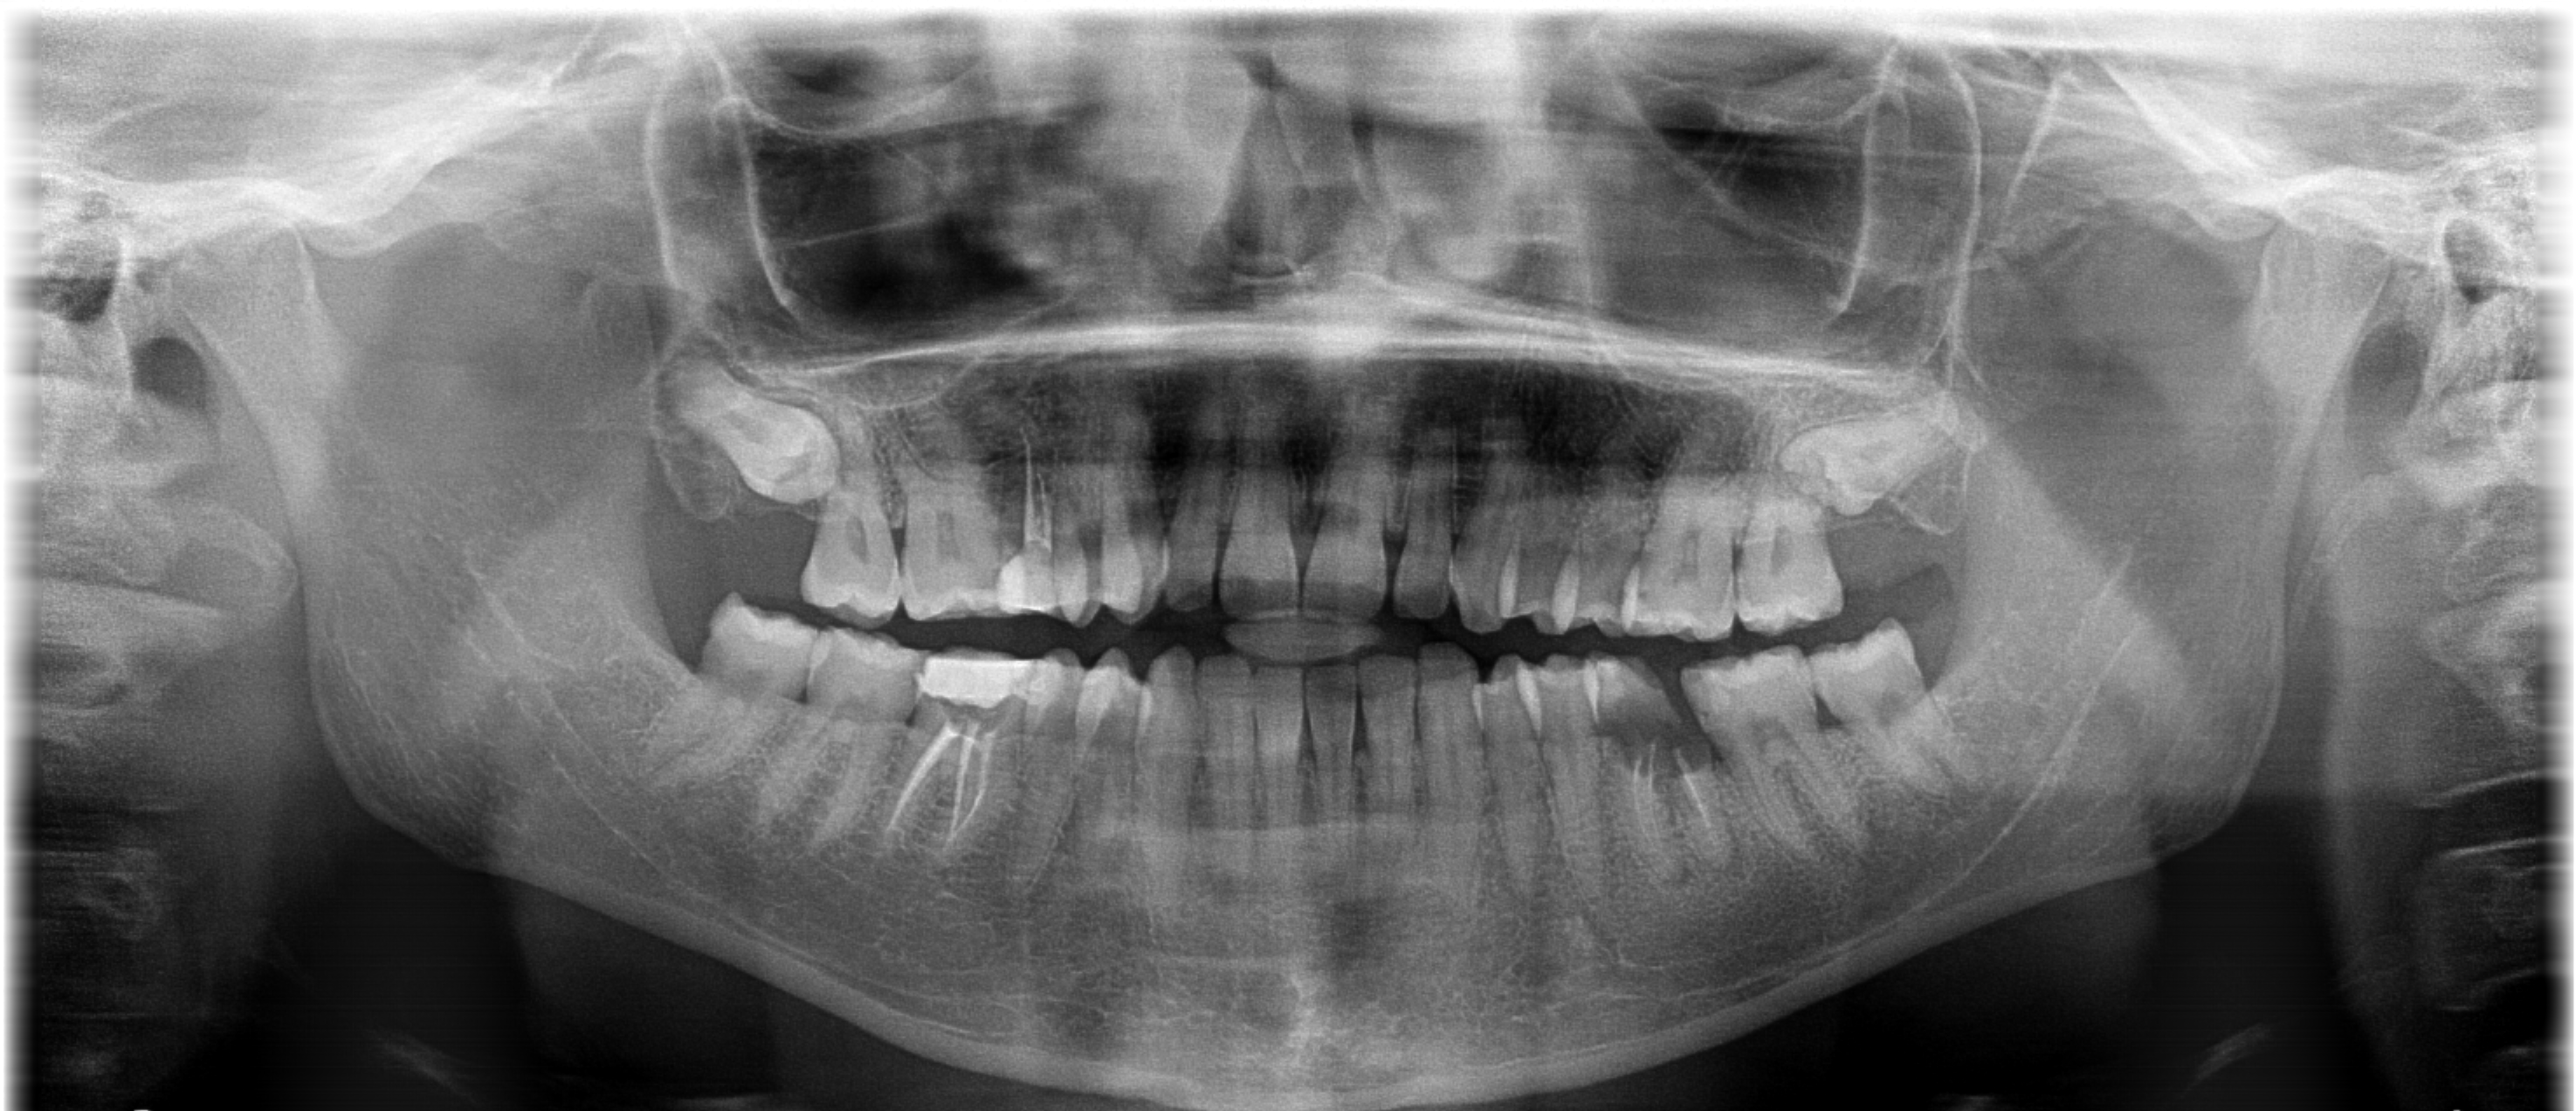caries: (1574, 648, 1733, 817)
cordal: (596, 592, 851, 810), (636, 339, 890, 547), (1750, 342, 2004, 551), (1791, 602, 2045, 810)
tratamiento_conducto: (874, 633, 1050, 881), (979, 393, 1109, 638)
